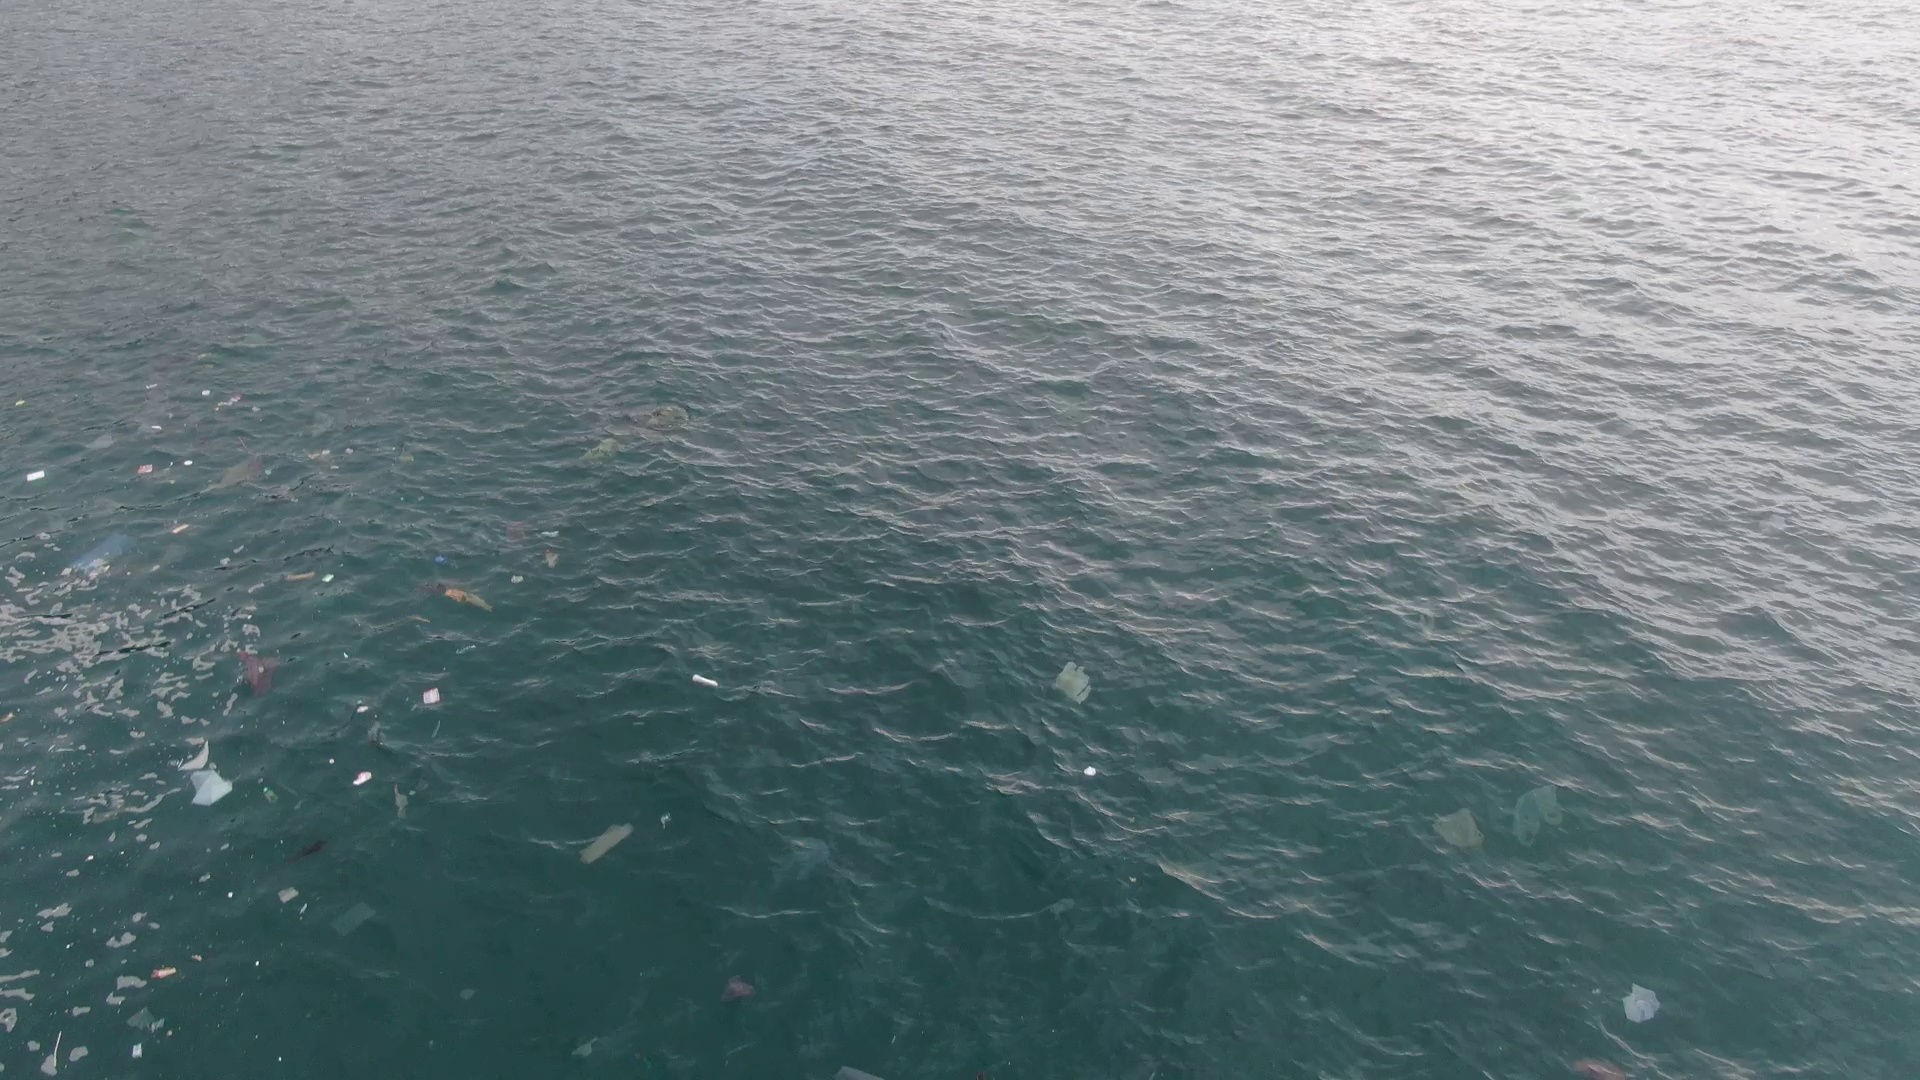garbage: (504, 524, 560, 583), (1516, 786, 1563, 848), (75, 529, 135, 571), (582, 823, 634, 864), (1433, 808, 1486, 848), (240, 650, 280, 698), (190, 767, 233, 806), (1056, 659, 1091, 705), (223, 454, 262, 489), (442, 584, 495, 611), (1625, 982, 1660, 1021), (723, 977, 756, 1004), (228, 390, 261, 417), (319, 446, 353, 471), (690, 673, 721, 688), (280, 886, 301, 907), (352, 770, 373, 787), (422, 688, 440, 705), (286, 571, 315, 582), (152, 967, 175, 978), (26, 469, 46, 483), (171, 522, 189, 535), (397, 451, 414, 463), (434, 553, 444, 564), (138, 465, 152, 473), (202, 388, 211, 396), (16, 398, 24, 406)
